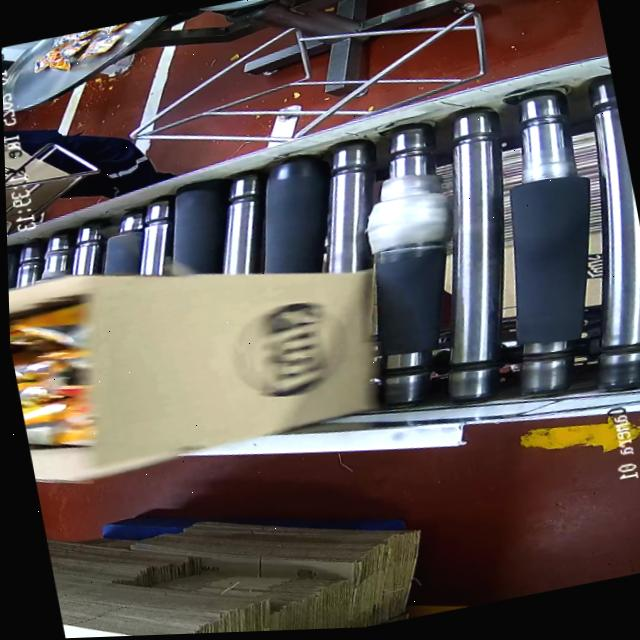FRENCH_CHEESE: (9, 294, 122, 447)
